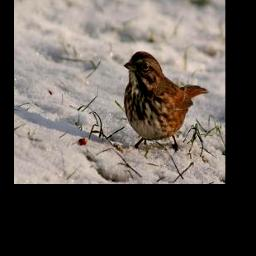Sparrow: (124, 49, 210, 152)
